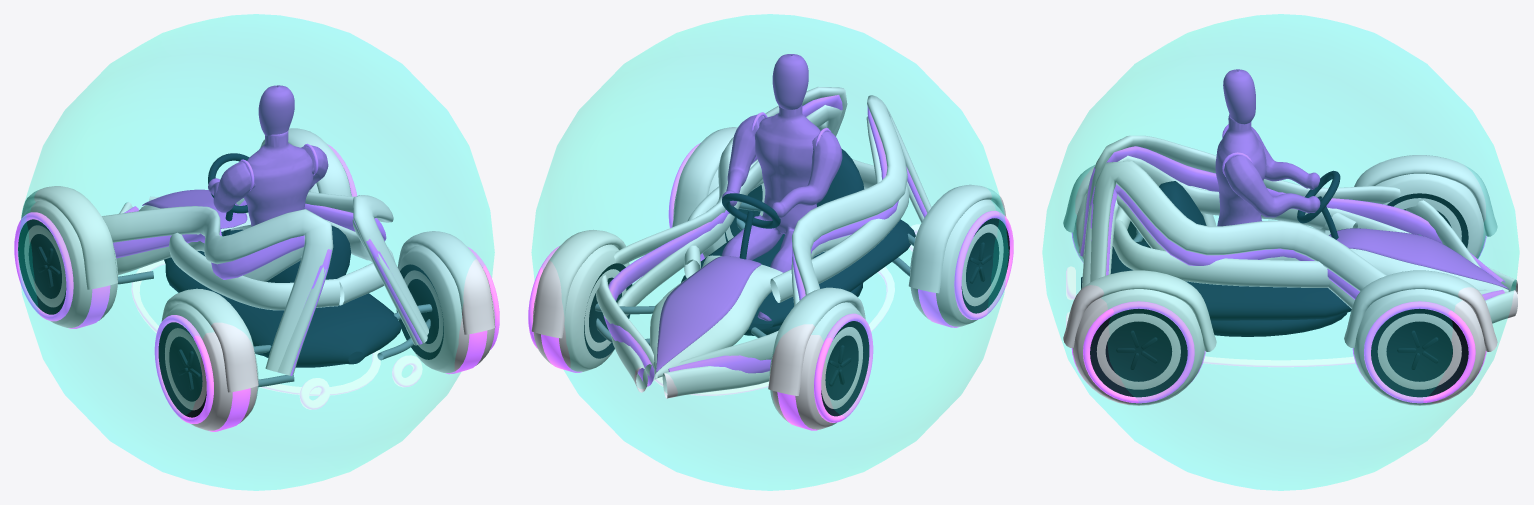
The model's file is loom.glb.
3 renders of one model, left to right at view 1: azimuth 30°, elevation 25°; view 2: azimuth 150°, elevation 25°; view 3: azimuth 270°, elevation 25°, orthographic.
Visible parts, largest first — view 1: loom:aegis-shield, loom:coachwork-batch.001, loom:coachwork-batch, loom:torso, loom:rounded-wheel-shell.003, loom:rounded-wheel-shell.002, loom:rounded-wheel-shell, loom:interlaced-body-ribbon, loom:recessed-colored-hub.002, loom:recessed-colored-hub, loom:underbody-flow-ring, loom:wheel-light-ring (+13 smaller); view 2: loom:aegis-shield, loom:coachwork-batch.001, loom:torso, loom:bonnet-enamel-inlay, loom:coachwork-batch, loom:rounded-wheel-shell.001, loom:rounded-wheel-shell, loom:rounded-wheel-shell.002, loom:interlaced-body-ribbon.001, loom:interlaced-body-ribbon, loom:arm-l-mesh, loom:recessed-colored-hub.002 (+13 smaller); view 3: loom:aegis-shield, loom:coachwork-batch.001, loom:coachwork-batch, loom:rounded-wheel-shell.001, loom:rounded-wheel-shell.003, loom:recessed-colored-hub.003, loom:recessed-colored-hub.001, loom:interlaced-body-ribbon, loom:bonnet-enamel-inlay, loom:rounded-wheel-shell, loom:torso, loom:interlaced-body-ribbon.001 (+8 smaller).
Part boxes in pixels (box(x1,y1,x2,y2)): loom:aegis-shield: box(17, 14, 494, 490); loom:coachwork-batch.001: box(21, 128, 495, 392); loom:coachwork-batch: box(164, 204, 401, 367); loom:torso: box(244, 131, 313, 226); loom:rounded-wheel-shell.003: box(398, 246, 494, 372); loom:rounded-wheel-shell.002: box(165, 303, 258, 430); loom:rounded-wheel-shell: box(24, 200, 117, 327); loom:interlaced-body-ribbon: box(113, 206, 331, 375); loom:recessed-colored-hub.002: box(158, 322, 206, 417); loom:recessed-colored-hub: box(18, 219, 66, 314); loom:underbody-flow-ring: box(131, 260, 380, 395); loom:wheel-light-ring: box(14, 212, 73, 321); loom:aegis-shield: box(531, 14, 1008, 490); loom:coachwork-batch.001: box(531, 87, 1006, 398); loom:torso: box(721, 104, 820, 321); loom:bonnet-enamel-inlay: box(656, 256, 761, 372); loom:coachwork-batch: box(681, 149, 915, 335); loom:rounded-wheel-shell.001: box(533, 244, 628, 371); loom:rounded-wheel-shell: box(769, 302, 862, 429); loom:rounded-wheel-shell.002: box(910, 199, 1003, 326); loom:interlaced-body-ribbon.001: box(603, 95, 842, 386); loom:interlaced-body-ribbon: box(668, 105, 927, 373); loom:arm-l-mesh: box(771, 131, 842, 218); loom:recessed-colored-hub.002: box(961, 218, 1009, 313); loom:aegis-shield: box(1042, 14, 1519, 490); loom:coachwork-batch.001: box(1063, 135, 1517, 351); loom:coachwork-batch: box(1081, 181, 1351, 336); loom:rounded-wheel-shell.001: box(1353, 289, 1485, 405); loom:rounded-wheel-shell.003: box(1072, 289, 1204, 405); loom:recessed-colored-hub.003: box(1090, 308, 1187, 397); loom:recessed-colored-hub.001: box(1371, 308, 1468, 397); loom:interlaced-body-ribbon: box(1080, 146, 1505, 282); loom:bonnet-enamel-inlay: box(1329, 228, 1508, 289); loom:rounded-wheel-shell: box(1375, 173, 1485, 258); loom:torso: box(1215, 114, 1266, 226); loom:interlaced-body-ribbon.001: box(1089, 184, 1504, 300).
Size of the model in its own units: 4.3 by 4.3 by 4.3.
